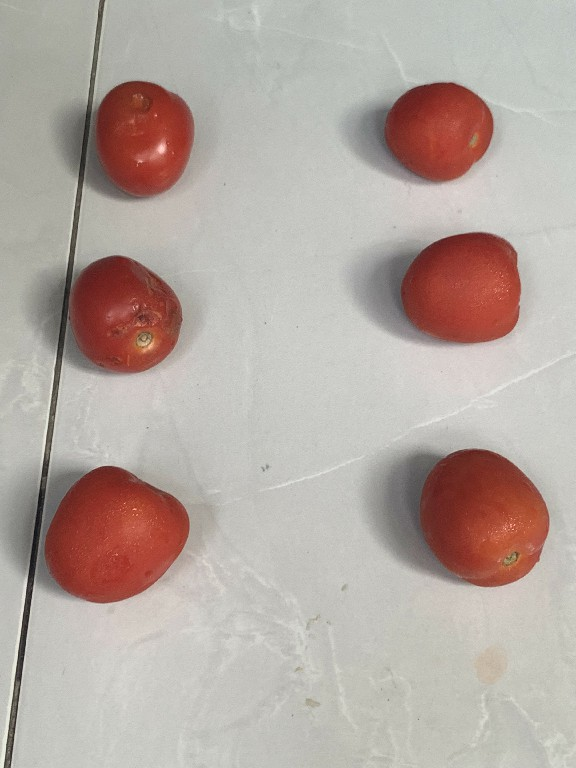NG: (69, 249, 182, 373), (86, 75, 191, 207)
OK: (414, 440, 559, 596), (40, 458, 190, 605), (393, 228, 524, 350), (385, 72, 493, 179)
